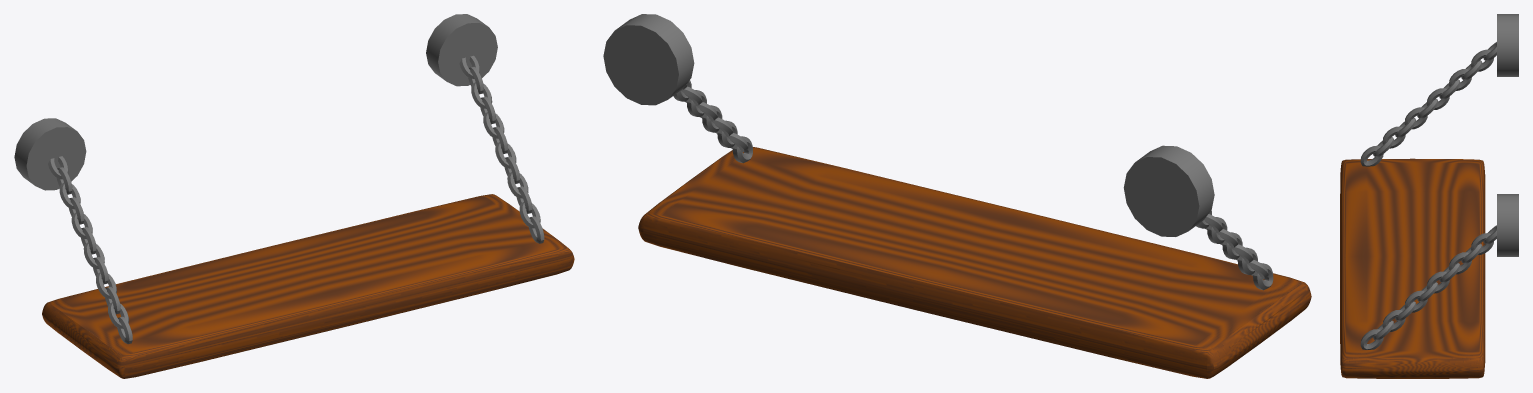
Rendered from raf (1).fbx.
The picture shows the model from 3 angles, left to right: view 1: azimuth 30°, elevation 25°; view 2: azimuth 150°, elevation 25°; view 3: azimuth 270°, elevation 25°; orthographic projection. The views are drawn at different scales.
Visible parts, largest first — view 1: Plane, Circle.001, Circle.002, Circle; view 2: Plane, Circle.002, Circle, Circle.001; view 3: Plane, Circle.001, Circle, Circle.002.
Part boxes in pixels (box(x1,y1,x2,y2)): Plane: box(42, 194, 574, 378); Circle.001: box(48, 55, 544, 344); Circle.002: box(426, 14, 497, 86); Circle: box(14, 118, 86, 190); Plane: box(638, 147, 1311, 378); Circle.002: box(603, 14, 694, 105); Circle: box(1123, 145, 1214, 236); Circle.001: box(673, 80, 1273, 290); Plane: box(1340, 158, 1485, 378); Circle.001: box(1360, 42, 1496, 349); Circle: box(1497, 14, 1518, 76); Circle.002: box(1497, 194, 1518, 256).
Bounding box in the file's own units: 205 × 80.34 × 73.77.
